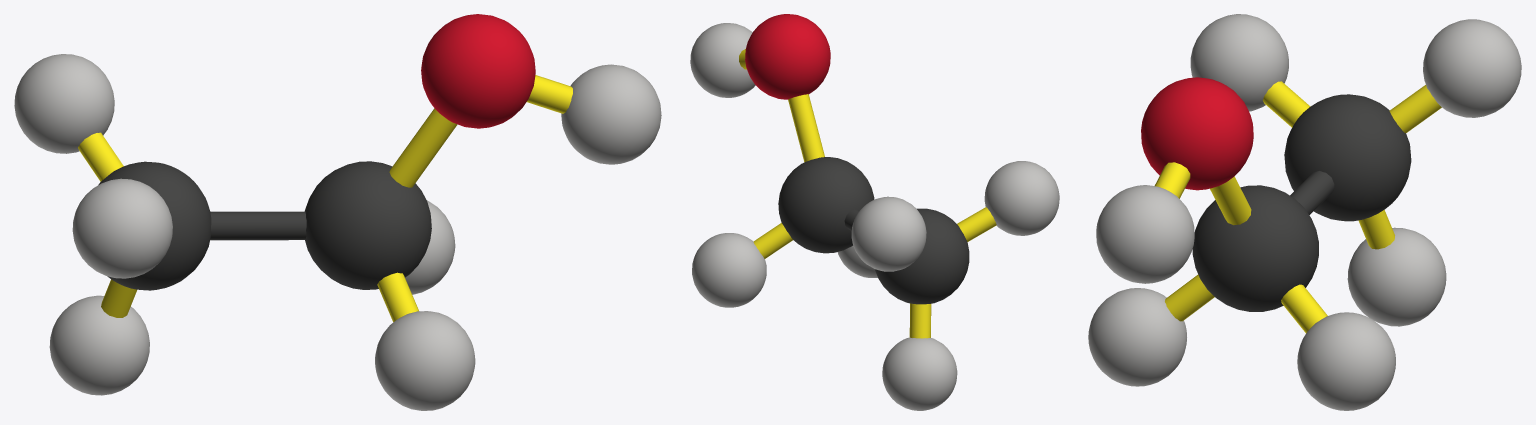
File: jxj.FBX
3 views of the same model, side by side, from view 1: azimuth 30°, elevation 25°; view 2: azimuth 150°, elevation 25°; view 3: azimuth 270°, elevation 25° (orthographic). The views are drawn at different scales.
Visible parts, largest first — view 1: Sphere048; view 2: Sphere048; view 3: Sphere048.
Boxes of the visible parts, <box> form: Sphere048: <box>14,14,661,410</box>; Sphere048: <box>690,14,1059,410</box>; Sphere048: <box>1088,14,1521,410</box>.
Size of the model in its own units: 42.48 by 29.09 by 30.65.
